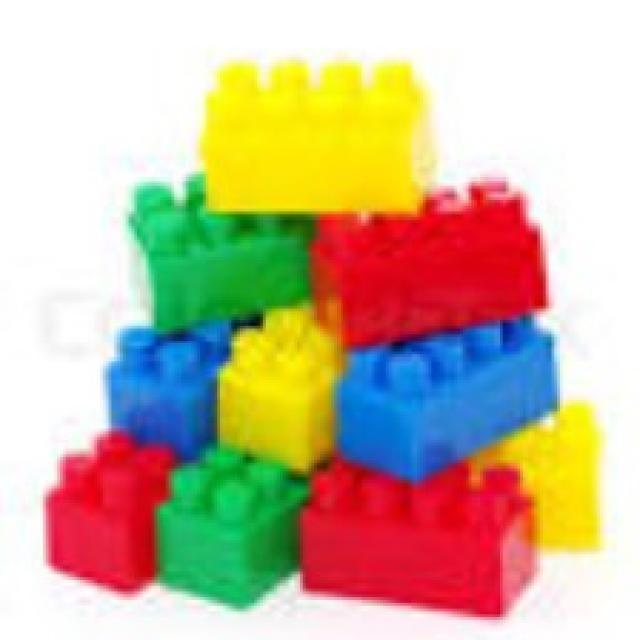heap: (39, 30, 612, 640)
plastic: (193, 55, 439, 219), (313, 463, 539, 616), (336, 326, 579, 461), (39, 430, 173, 590)
